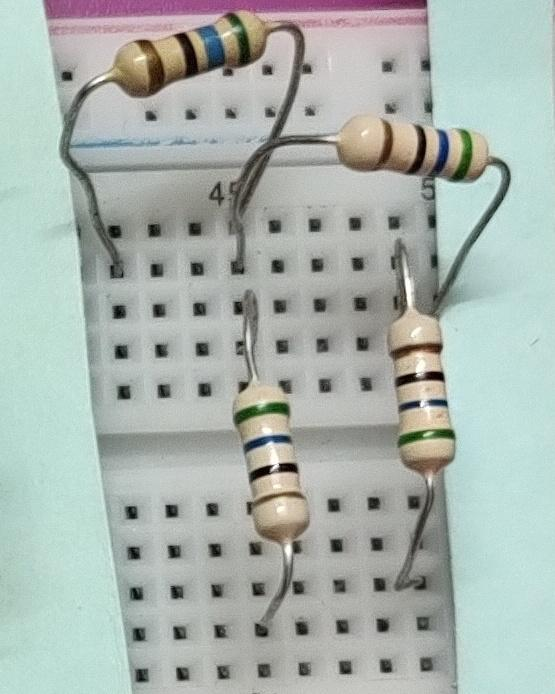resistor: (370, 296, 482, 508), (219, 373, 324, 555), (89, 8, 285, 104), (332, 99, 498, 208)
